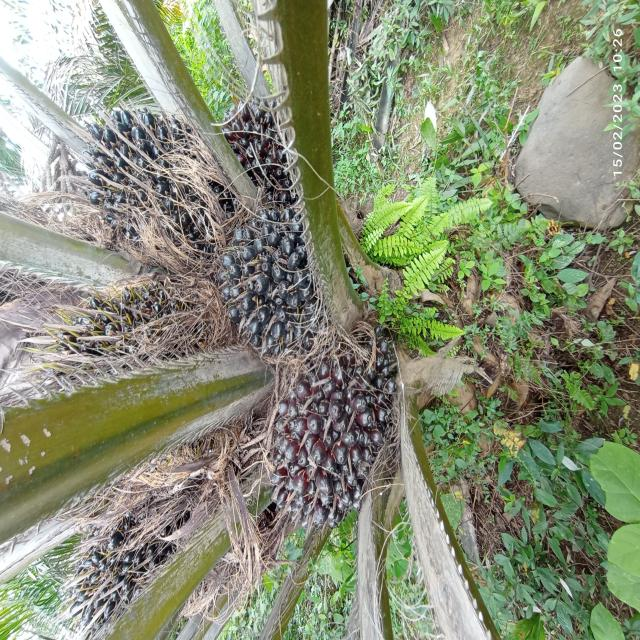fraksi 00: (253, 332, 420, 550), (38, 94, 212, 265), (207, 218, 326, 372), (207, 106, 299, 204)
